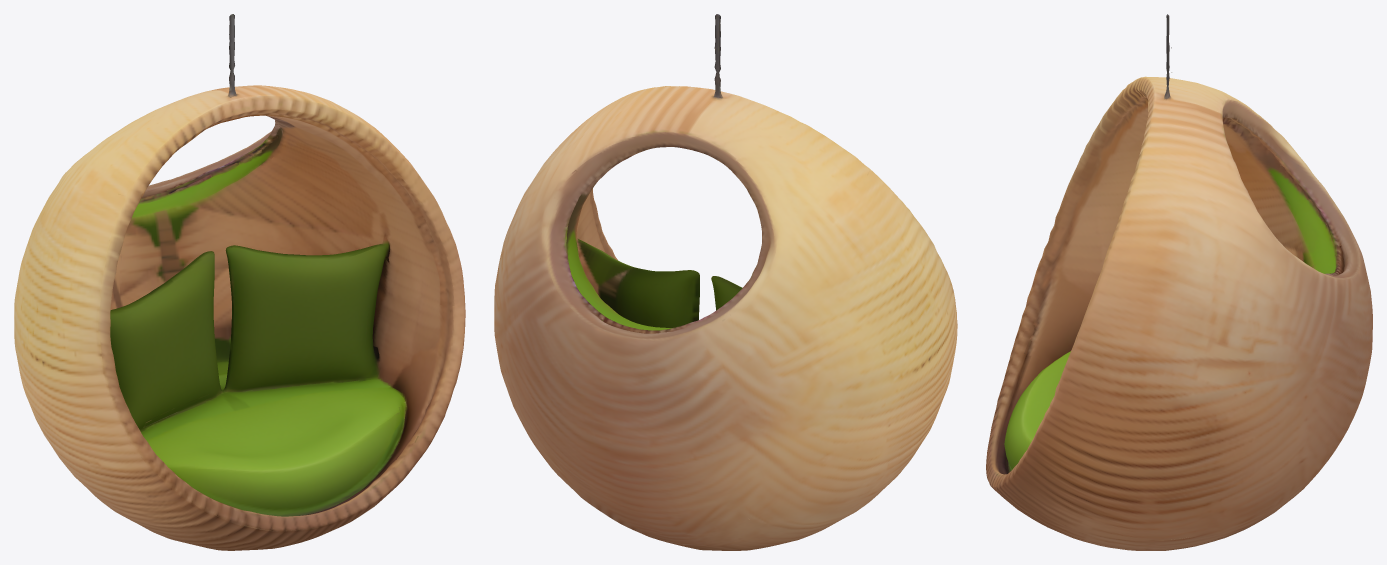
The picture shows the model from 3 angles, left to right: view 1: azimuth 30°, elevation 25°; view 2: azimuth 150°, elevation 25°; view 3: azimuth 270°, elevation 25°; orthographic projection. The views are drawn at different scales.
Parts seen in each view (by area): view 1: model; view 2: model; view 3: model.
Part boxes in pixels (<box>): model: <box>14,14,465,550</box>; model: <box>494,14,957,550</box>; model: <box>986,14,1372,550</box>.
Bounding box in the file's own units: 155 × 190 × 129.
